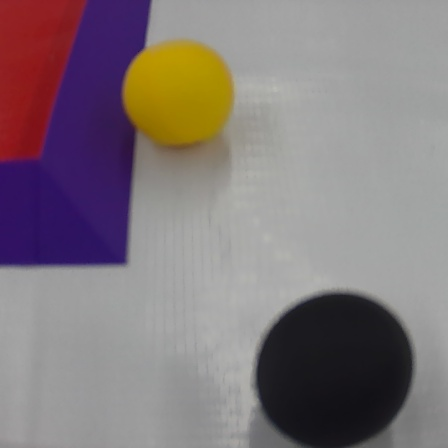black: (254, 287, 414, 445)
red_aim: (0, 0, 152, 270)
yellow: (121, 39, 237, 151)
